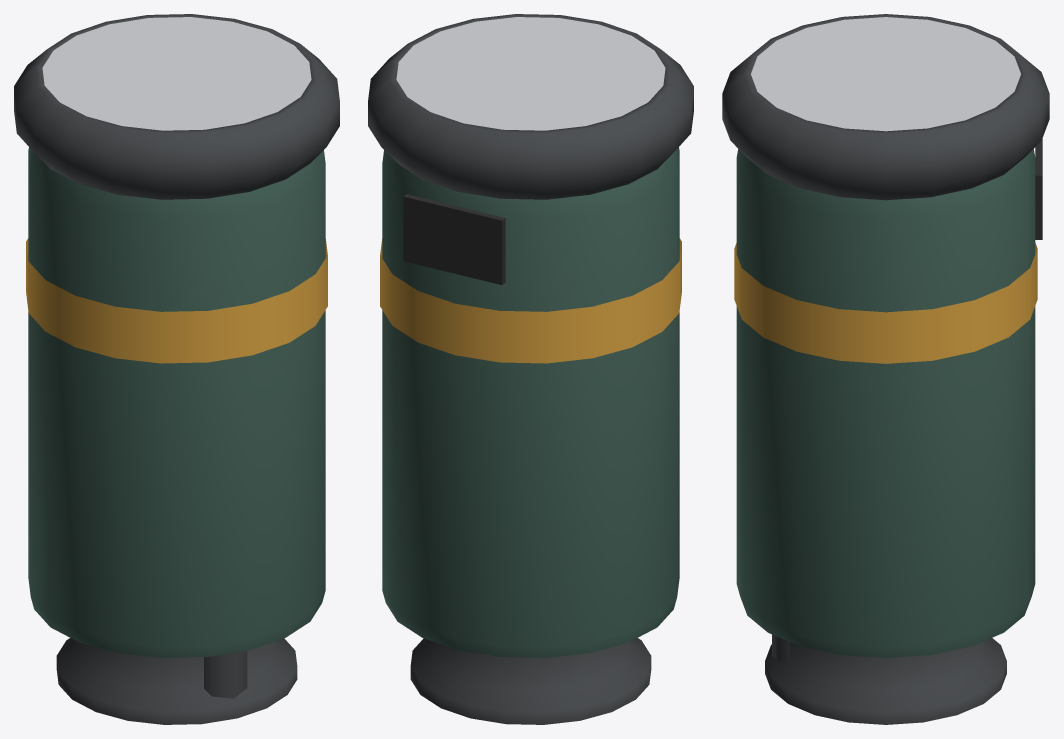
The model's file is bin.glb.
3 views of the same model, side by side, from view 1: azimuth 30°, elevation 25°; view 2: azimuth 150°, elevation 25°; view 3: azimuth 270°, elevation 25° (orthographic).
Parts seen in each view (by area): view 1: bin; view 2: bin; view 3: bin.
Part boxes in pixels (left/top/right/bottom): bin: left=14, top=14, right=339, bottom=724; bin: left=368, top=14, right=693, bottom=724; bin: left=722, top=14, right=1049, bottom=724.
Bounding box in the file's own units: 0.46 × 0.93 × 0.46.
